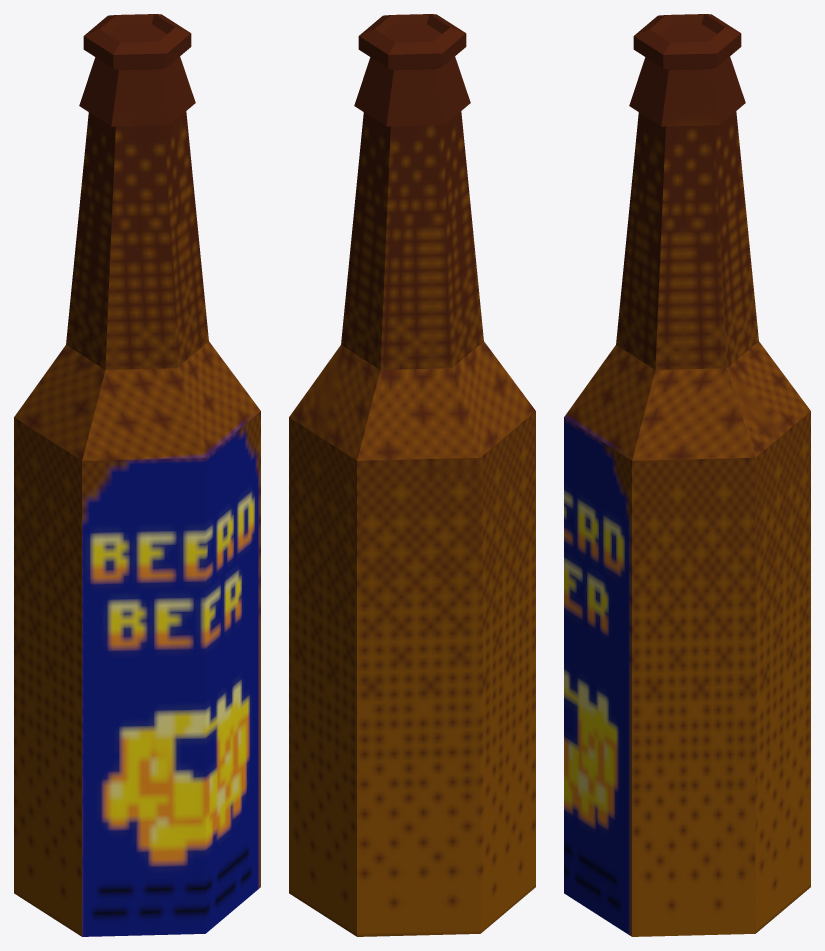
Rendered from BeerdBeer.fbx.
The picture shows the model from 3 angles, left to right: view 1: azimuth 30°, elevation 25°; view 2: azimuth 150°, elevation 25°; view 3: azimuth 270°, elevation 25°; orthographic projection.
Parts seen in each view (by area): view 1: Beer; view 2: Beer; view 3: Beer.
Boxes of the visible parts, bbox=[...] form: Beer: bbox=[14, 14, 260, 936]; Beer: bbox=[289, 14, 535, 936]; Beer: bbox=[564, 14, 810, 936].
Bounding box in the file's own units: 9.57 × 41.15 × 10.69.
